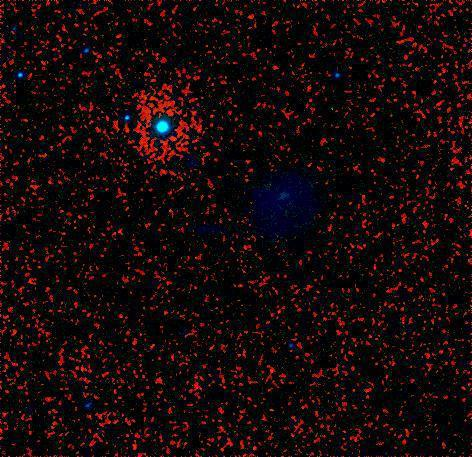star: (143, 364, 173, 394)
